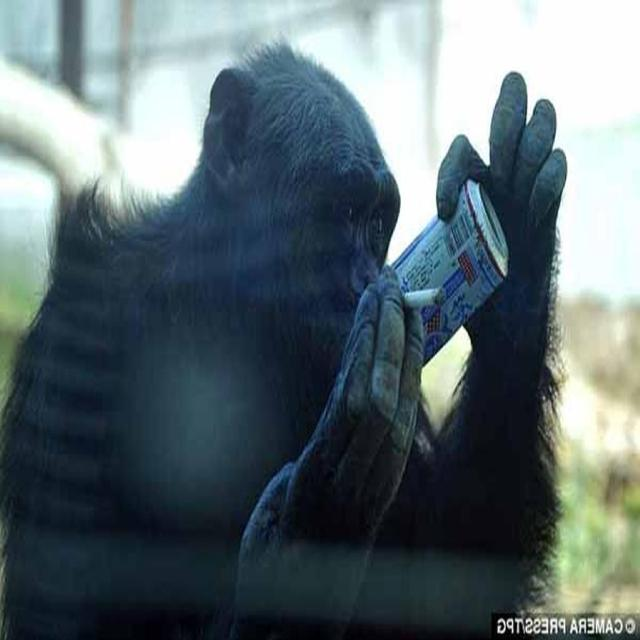smoking: (210, 99, 449, 344)
